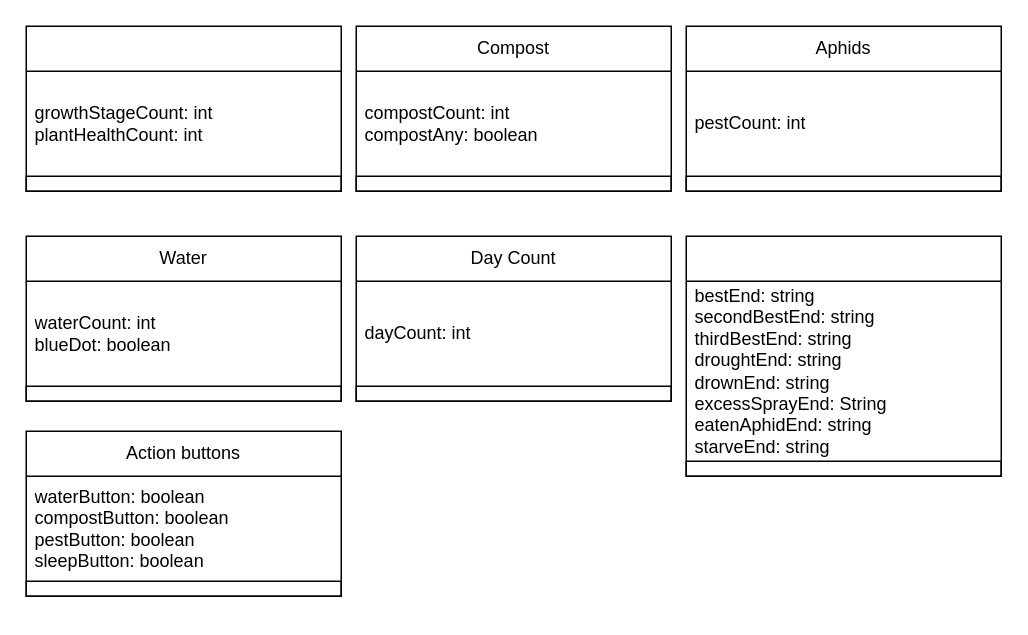
Some shapes in this 1028 by 635 pixel diagram are drawn without their labels. The box of each missing label's shape, as (x1, y1, x2, y2) in pixels:
Endings: (685, 235, 1001, 476)
Universe Flower: (25, 25, 341, 191)
